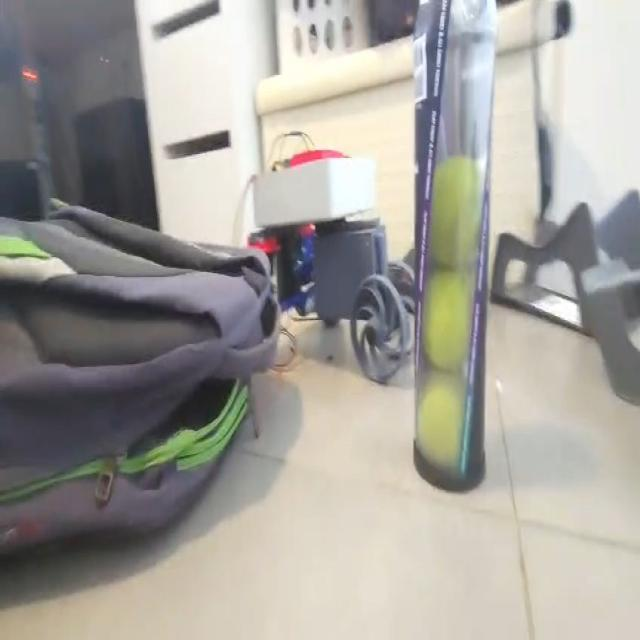Robot: (248, 147, 415, 382)
